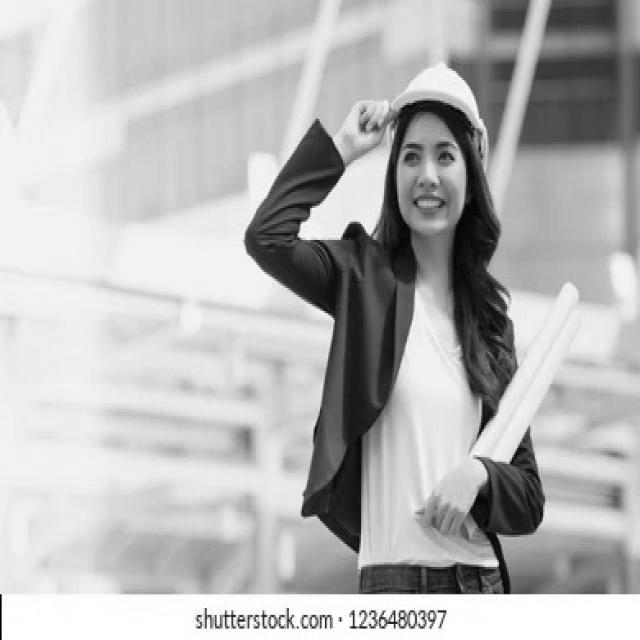construction helmet: (388, 58, 491, 171)
